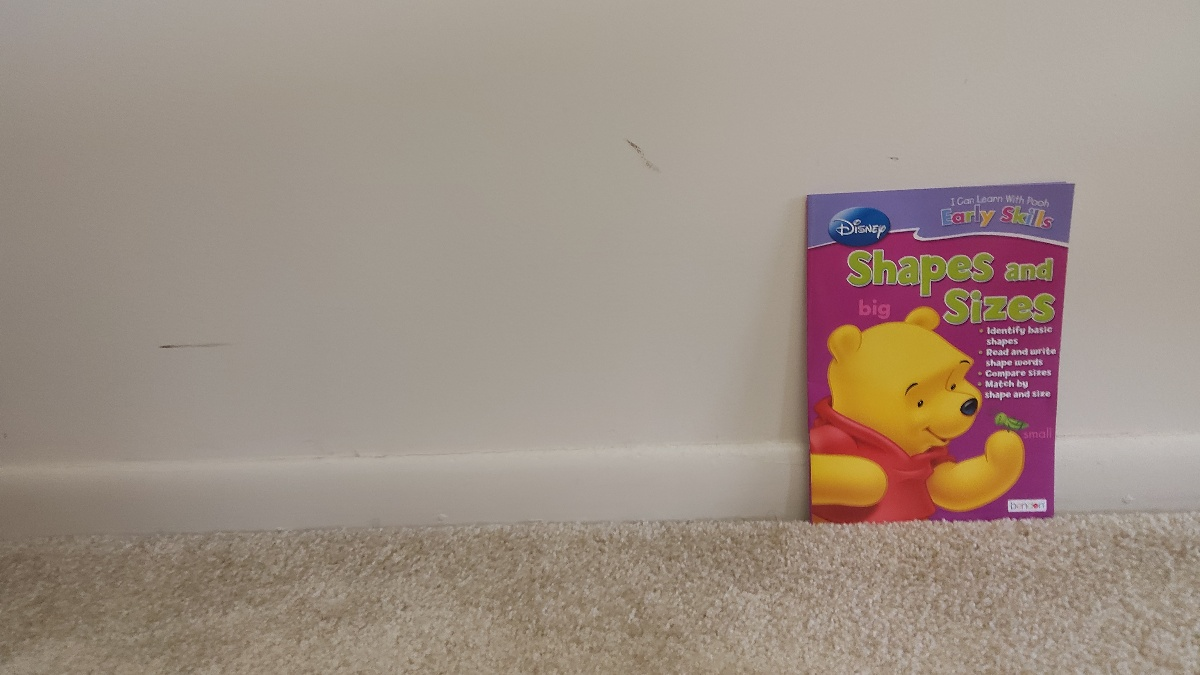book: (809, 196, 1055, 516)
